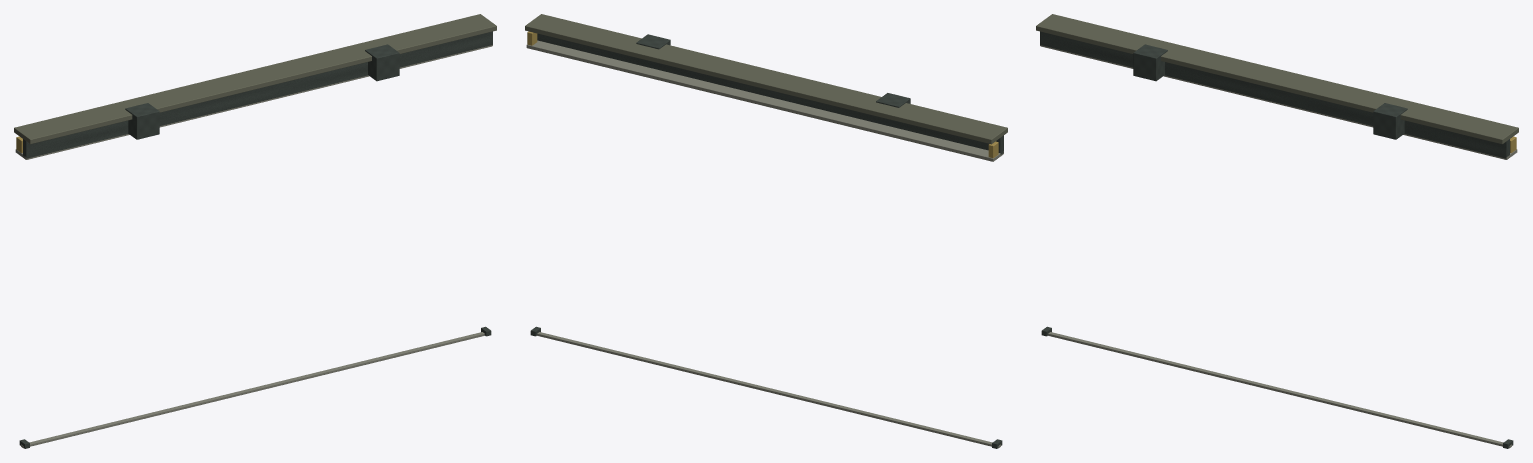
File: ELEVATOR_DoorTrack.fbx
3 views of the same model, side by side, from view 1: azimuth 30°, elevation 25°; view 2: azimuth 150°, elevation 25°; view 3: azimuth 330°, elevation 25° (orthographic).
Visible parts, largest first — view 1: ELEVATOR_DoorTrack_Mesh; view 2: ELEVATOR_DoorTrack_Mesh; view 3: ELEVATOR_DoorTrack_Mesh.
Part boxes in pixels (x1,y1,x2,y2): ELEVATOR_DoorTrack_Mesh: (14,14,496,448); ELEVATOR_DoorTrack_Mesh: (525,14,1007,448); ELEVATOR_DoorTrack_Mesh: (1036,14,1518,448).
Bounding box in the file's own units: 5.06 × 3.26 × 0.395.
